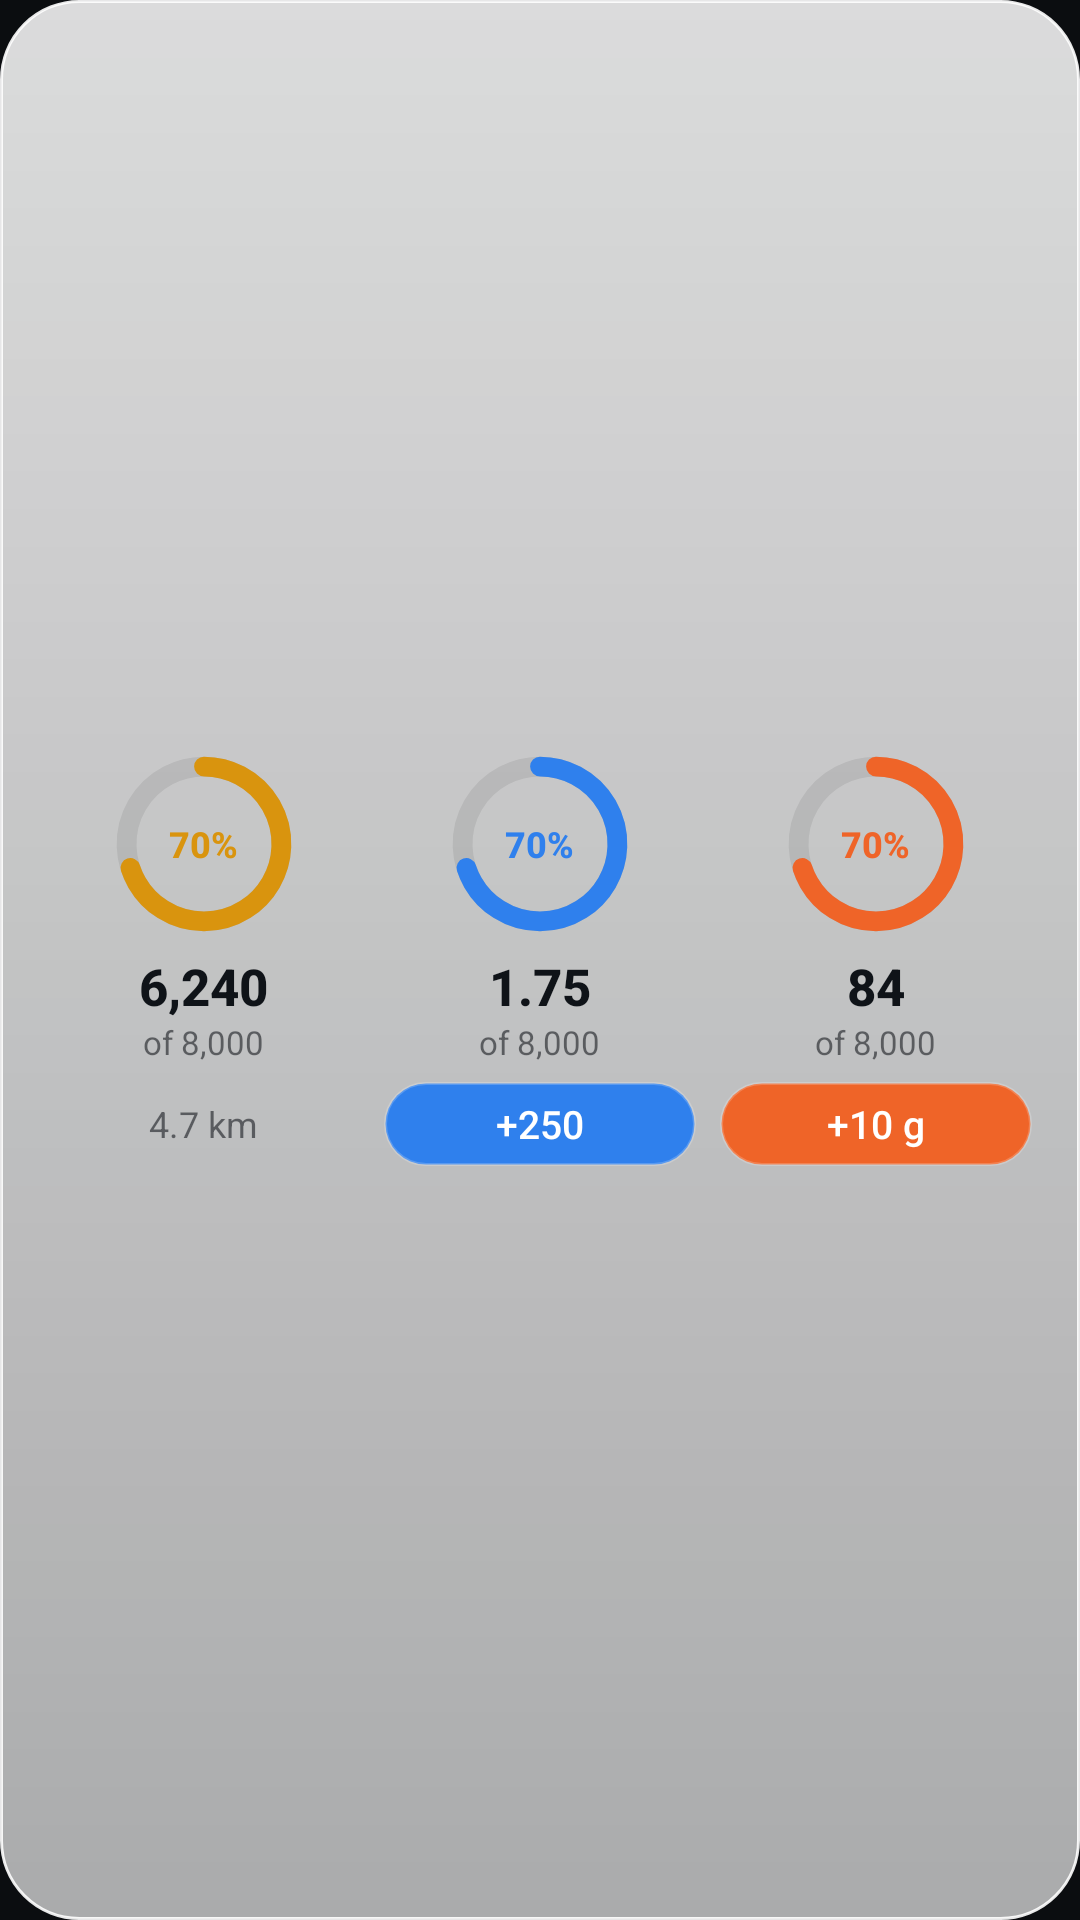

Screen size 1080x1920. Icon name, then its box in pixels as bbox(x1, y1, x2, y2):
widget ring protein: bbox(792, 756, 964, 932)
widget ring steps: bbox(120, 756, 292, 932)
widget ring water: bbox(456, 756, 628, 932)
